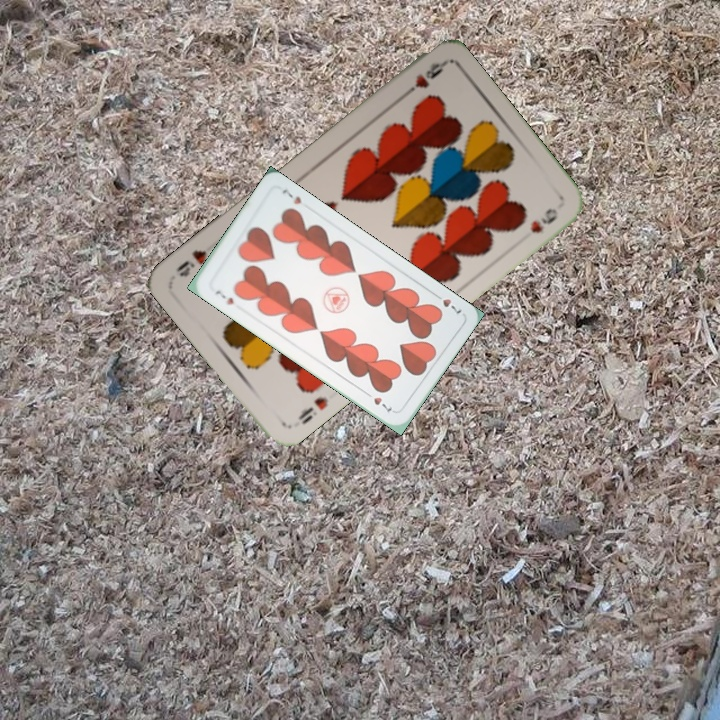H7: (430, 289, 465, 318), (211, 285, 236, 308)
H9: (397, 58, 447, 102), (294, 392, 331, 427)
